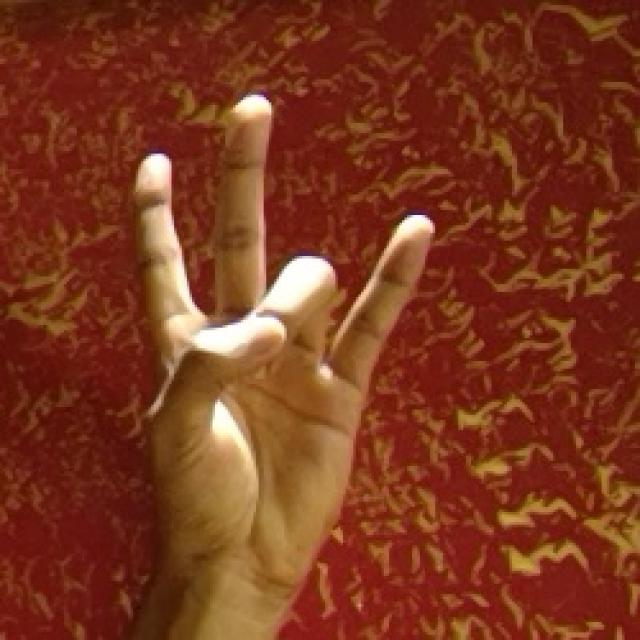Numeric-7: (124, 82, 437, 526)
